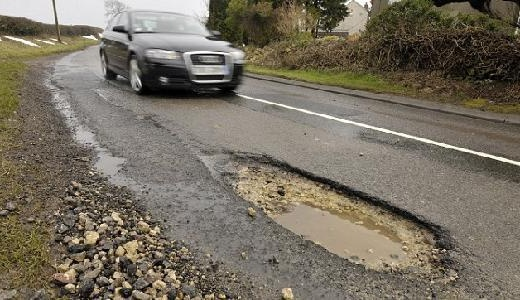pothole: (196, 148, 453, 271)
